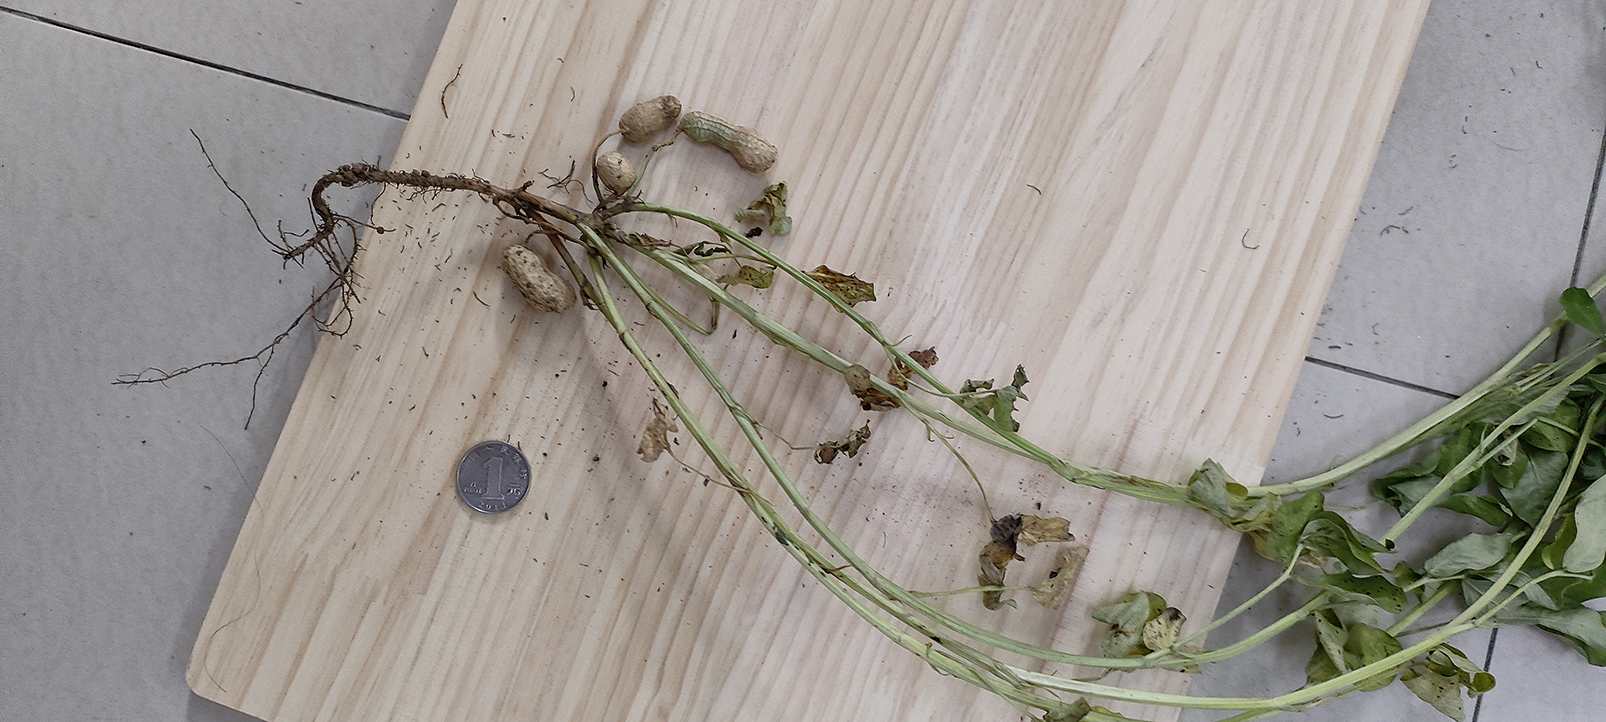h: (682, 110, 776, 171), (504, 244, 576, 315), (620, 96, 680, 138), (597, 152, 635, 188)
